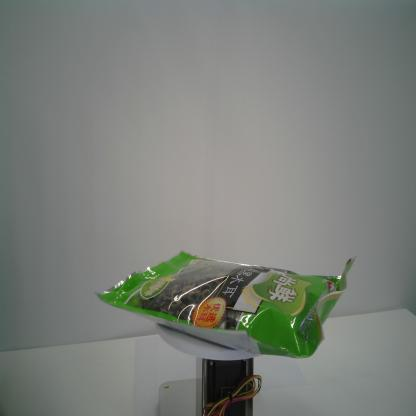Dried Food: (92, 248, 360, 361)
